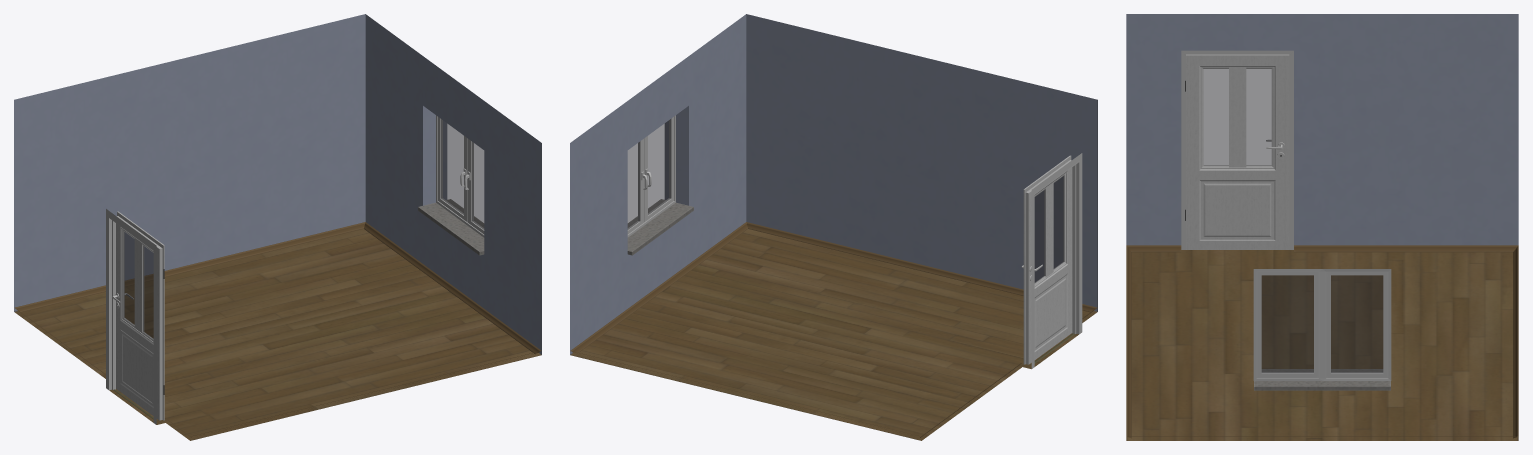
File: Room.glb
3 renders of one model, left to right at view 1: azimuth 30°, elevation 25°; view 2: azimuth 150°, elevation 25°; view 3: azimuth 270°, elevation 25°, orthographic. The views are drawn at different scales.
Parts seen in each view (by area): view 1: LP_Chunk_00; view 2: LP_Chunk_00; view 3: LP_Chunk_00.
Part boxes in pixels (x1=…): LP_Chunk_00: x1=14, y1=14, x2=541, y2=440; LP_Chunk_00: x1=570, y1=14, x2=1097, y2=440; LP_Chunk_00: x1=1126, y1=14, x2=1518, y2=440.
Size of the model in its own units: 4.99 by 2.6 by 3.92.
Materials: 2 (2 with a texture image).
